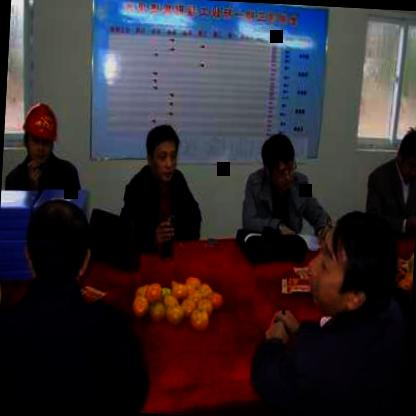head: (309, 208, 400, 324), (21, 186, 97, 292), (257, 128, 298, 198), (141, 121, 184, 185), (394, 126, 416, 183)
helmet: (17, 99, 63, 170)
